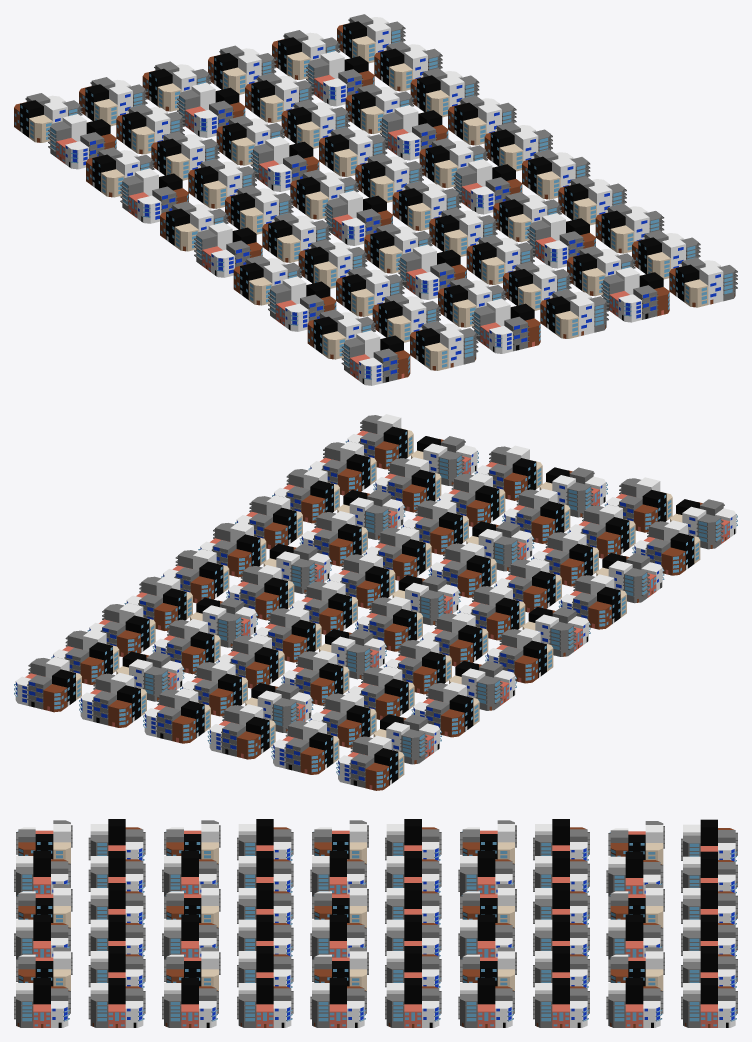
File: BuildingCluster megacluster (1).fbx
3 renders of one model, top to bottom at view 1: azimuth 30°, elevation 25°; view 2: azimuth 150°, elevation 25°; view 3: azimuth 270°, elevation 25°, orthographic.
Visible parts, largest first — view 1: Buildings 1 Sub3.017; view 2: Buildings 1 Sub3.017; view 3: Buildings 1 Sub3.017.
Boxes of the visible parts, x1=… form: Buildings 1 Sub3.017: x1=14, y1=14, x2=737, y2=385; Buildings 1 Sub3.017: x1=14, y1=414, x2=737, y2=790; Buildings 1 Sub3.017: x1=14, y1=819, x2=737, y2=1027.
Bounding box in the file's own units: 14198 × 1090 × 23712.
